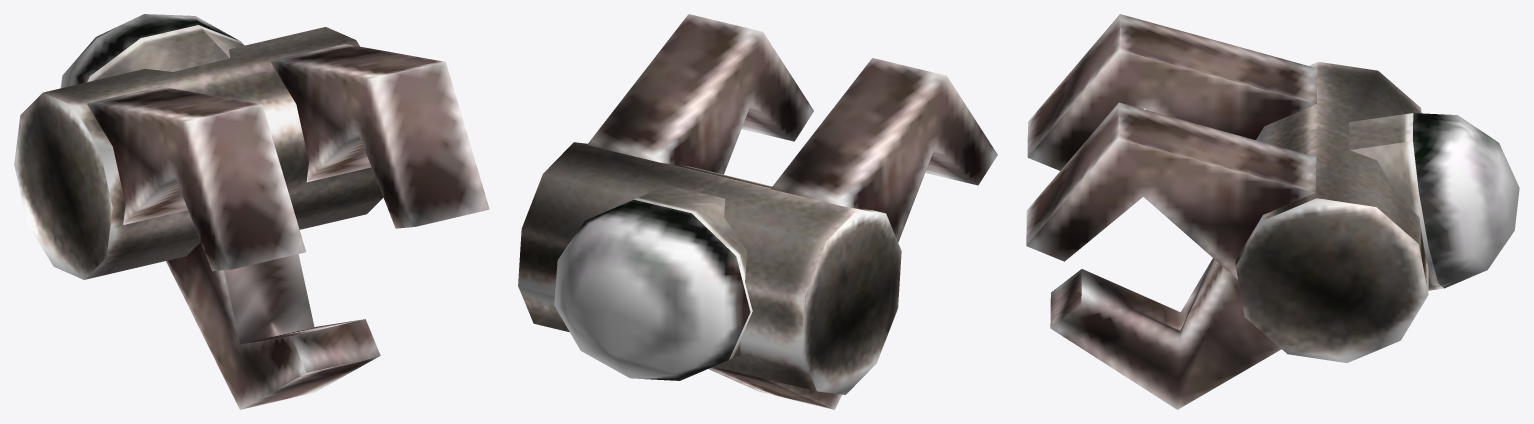
Rendered from Robot01.RightPalm2.fbx.
The picture shows the model from 3 angles, left to right: view 1: azimuth 30°, elevation 25°; view 2: azimuth 150°, elevation 25°; view 3: azimuth 270°, elevation 25°; orthographic projection. The views are drawn at different scales.
Visible parts, largest first — view 1: mesh_1110.002; view 2: mesh_1110.002; view 3: mesh_1110.002.
Part boxes in pixels (x1,y1,x2,y2): mesh_1110.002: (14,14,489,409); mesh_1110.002: (518,14,997,409); mesh_1110.002: (1026,14,1519,409).
Size of the model in its own units: 22.13 by 24.39 by 33.86.
